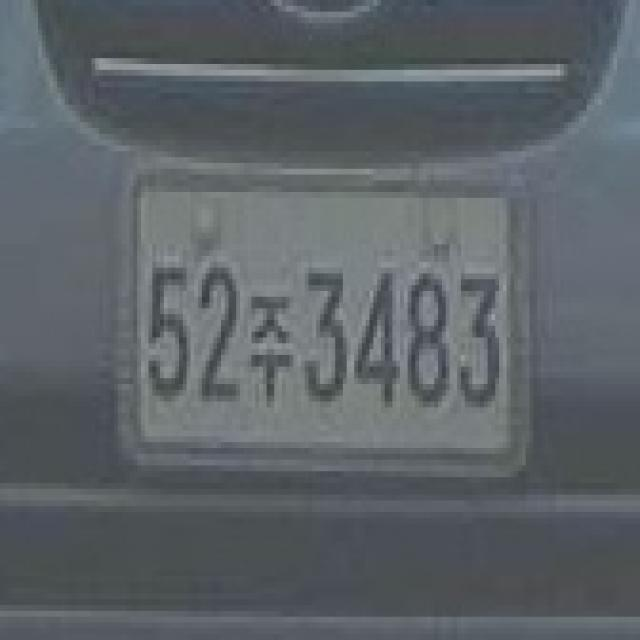2: (199, 264, 246, 407)
3: (453, 266, 502, 410), (306, 258, 351, 409)
4: (354, 264, 406, 411)
5: (146, 254, 196, 411)
8: (406, 274, 453, 409)
ju: (248, 290, 298, 414)
license_plate: (111, 140, 530, 506)
